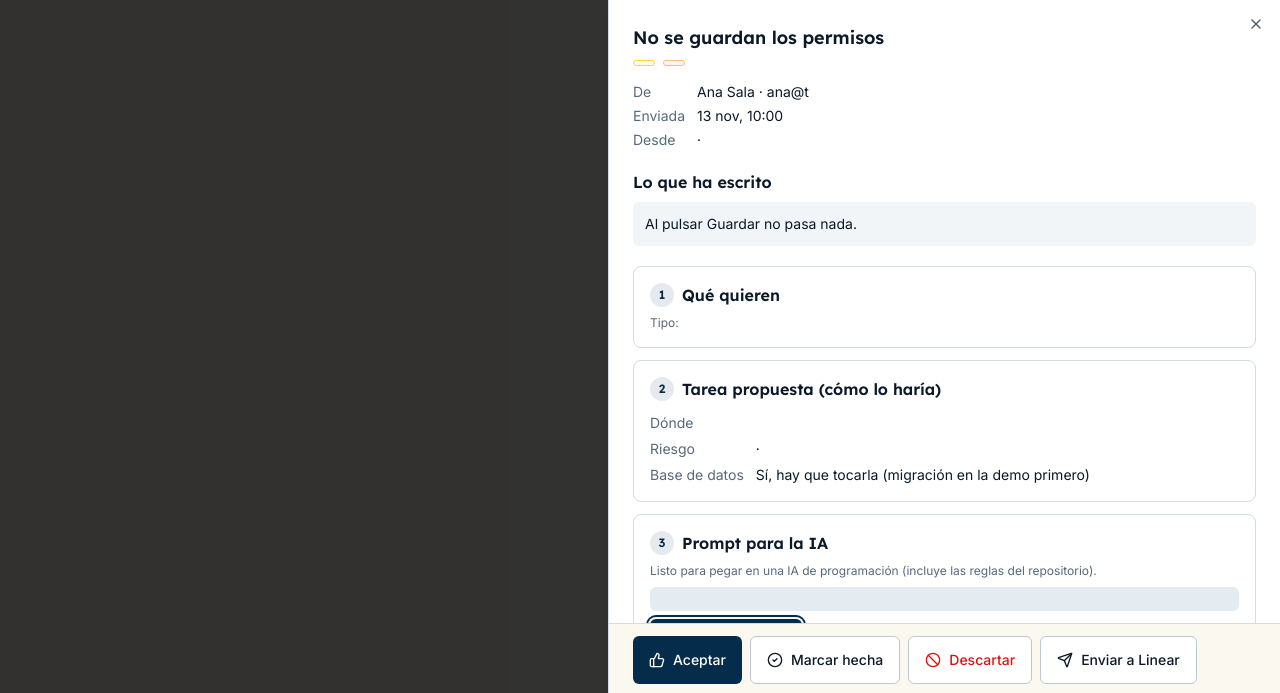
Test: DetalleTicket › Enviar a Linear › modo prueba: lo dice claro (no se ha creado nada en Linear)
Later steps or results of the test are not shown.
What coordinates should you click on to do the following:
click the button "Enviar a Linear"
I would click on:
 (1118, 660)
Its box is x1=1040 y1=636 x2=1197 y2=684.
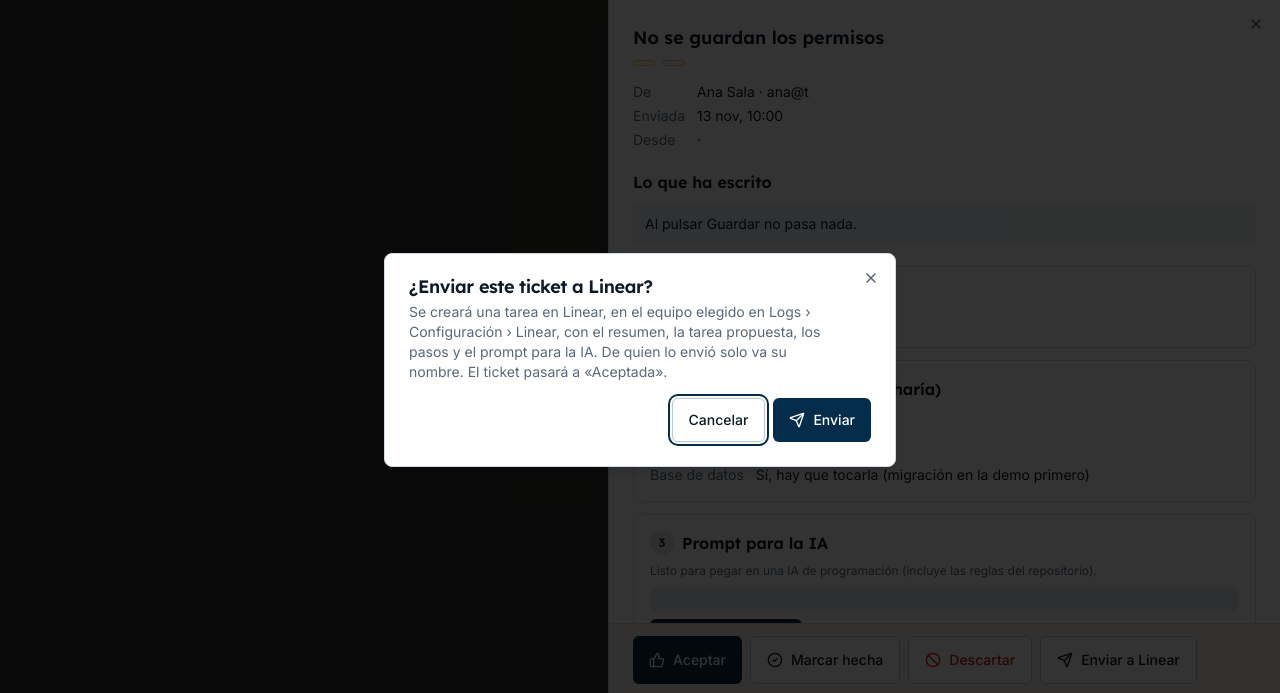
Result: the heading "¿Enviar este ticket a Linear?" is shown at x1=409 y1=275 x2=652 y2=298
